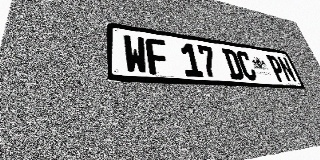1: (179, 42, 204, 77)
7: (196, 45, 220, 78)
C: (235, 50, 258, 80)
D: (221, 48, 245, 80)
F: (145, 37, 171, 76)
N: (276, 56, 298, 83)
P: (266, 55, 288, 82)
W: (123, 34, 149, 74)
